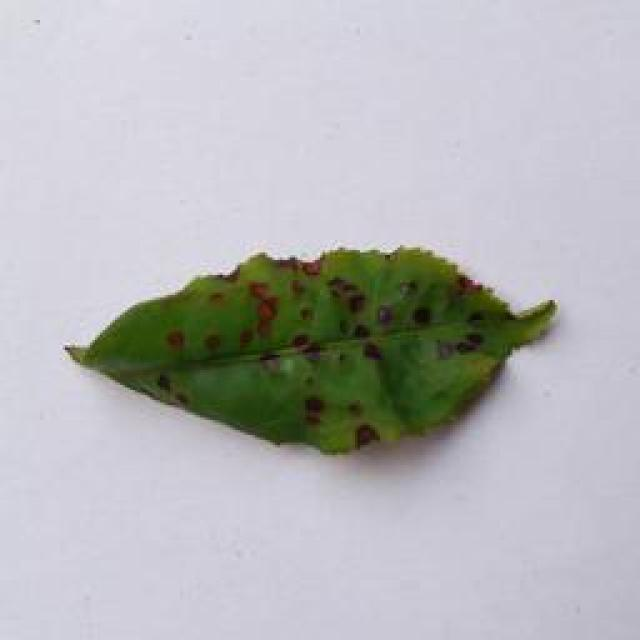Helopeltis: (53, 235, 570, 465)
